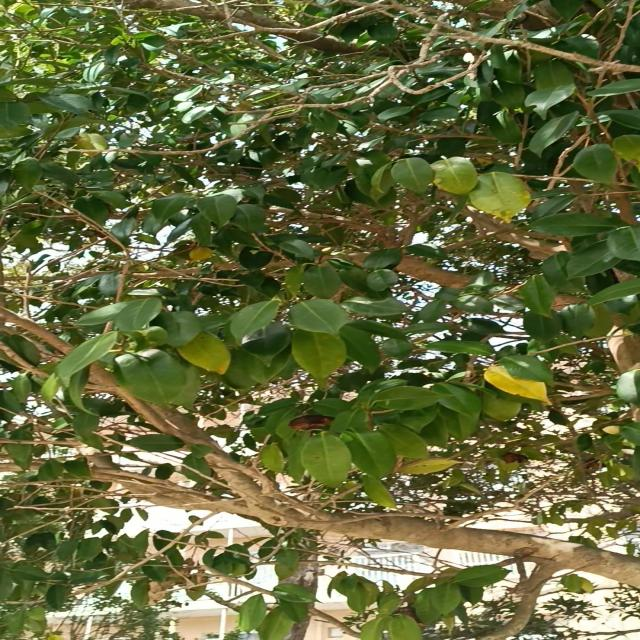Branch: (233, 500, 640, 586)
Twig: (7, 313, 341, 515), (76, 440, 226, 512)
